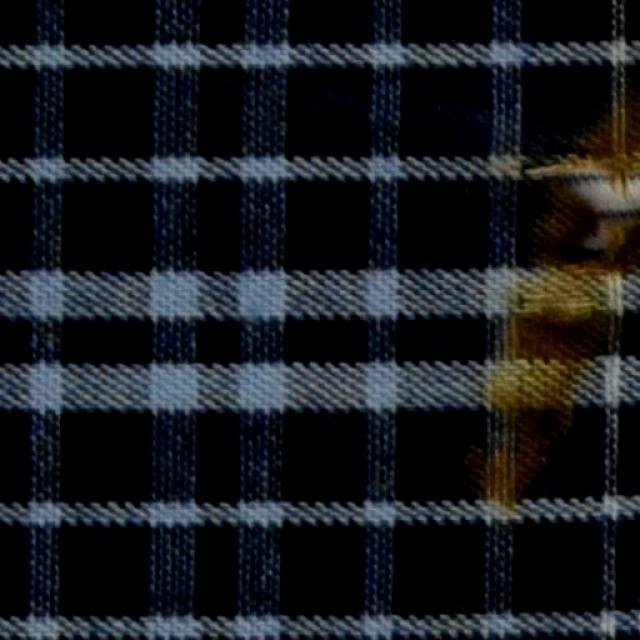Hole: (560, 174, 639, 248)
Stain: (458, 170, 624, 512), (559, 73, 639, 205)
